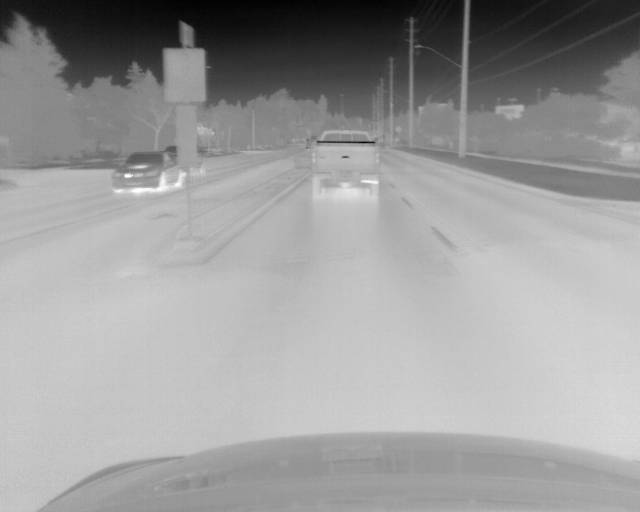car: (313, 130, 381, 195), (111, 151, 180, 193)
